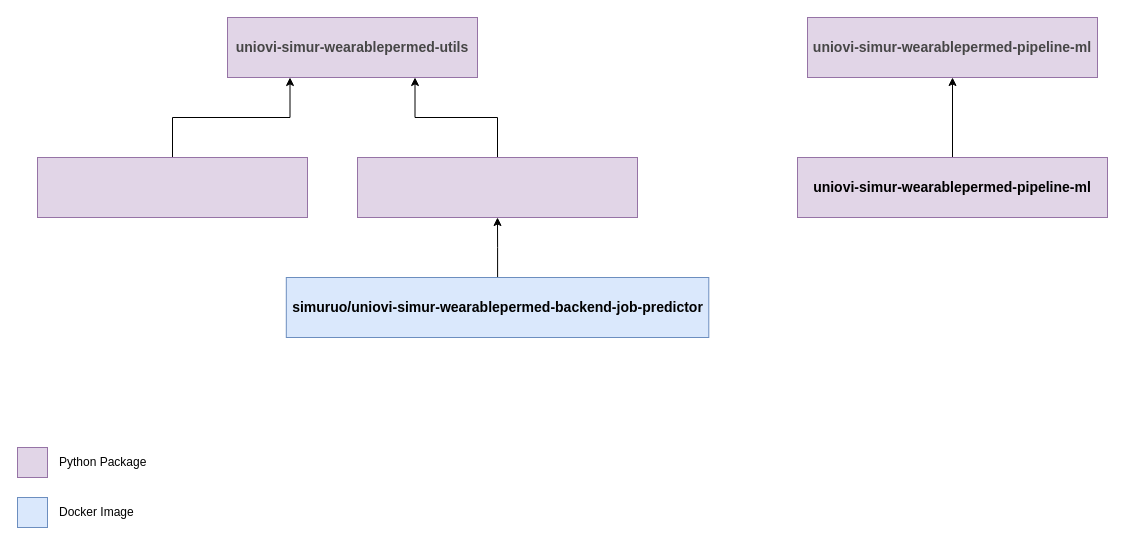
The diagram is 1125 pixels wide and 545 high, and some of its shapes have lost their labels. Each missing label, with the centre of its shape:
uniovi-simur-wearablepermed-pipeline: pixel 172 187
uniovi-simur-wearablepermed-predictor: pixel 497 187
